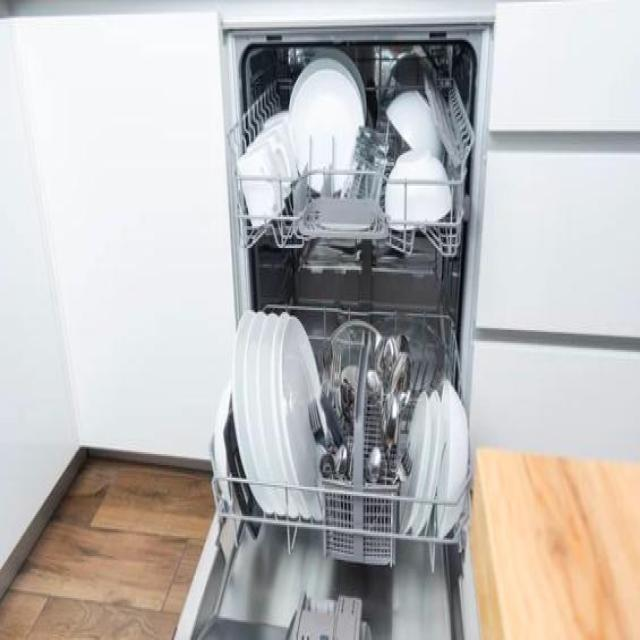dishwasher: (171, 6, 506, 638)
